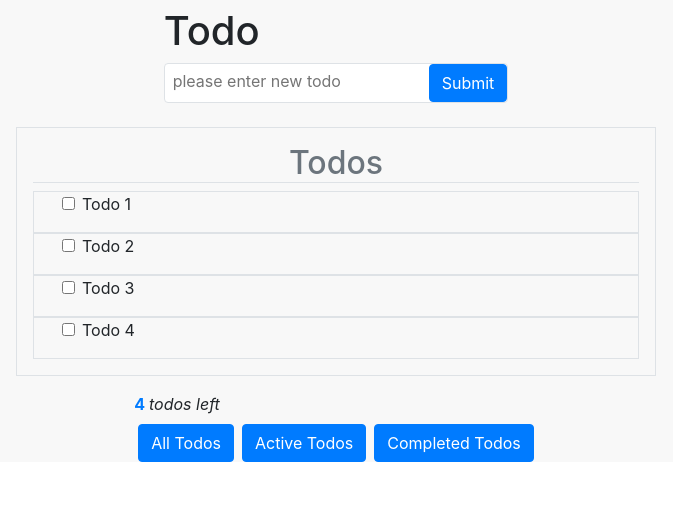
Test case: todo list › Form submit › should submit a new todo
Type "Hamed" into the field with id "new-todo" at point(297, 81), box [165,67,429,95]
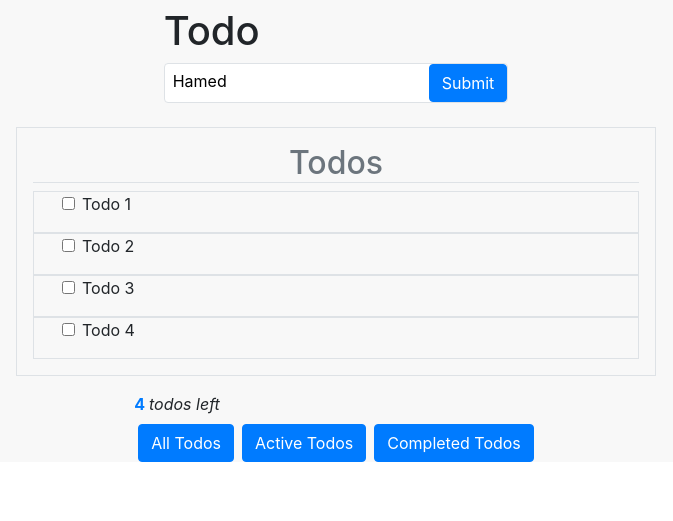
Press Enter in the field with id "new-todo", box [165,67,429,95]
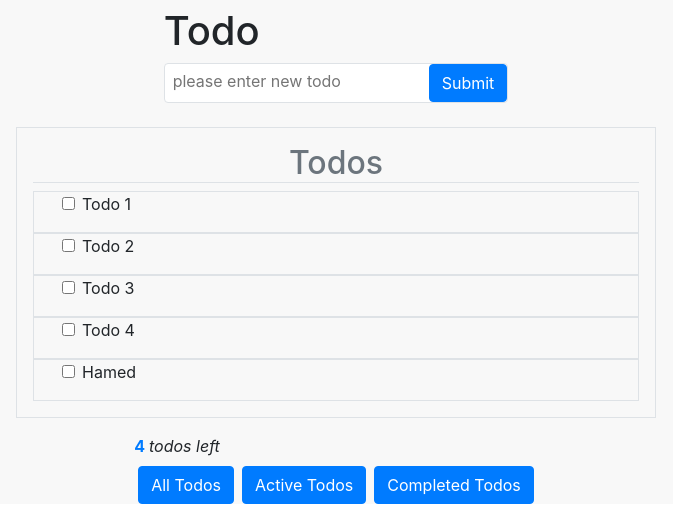
Expected: the text "Hamed" is shown, [82,360,136,384]
